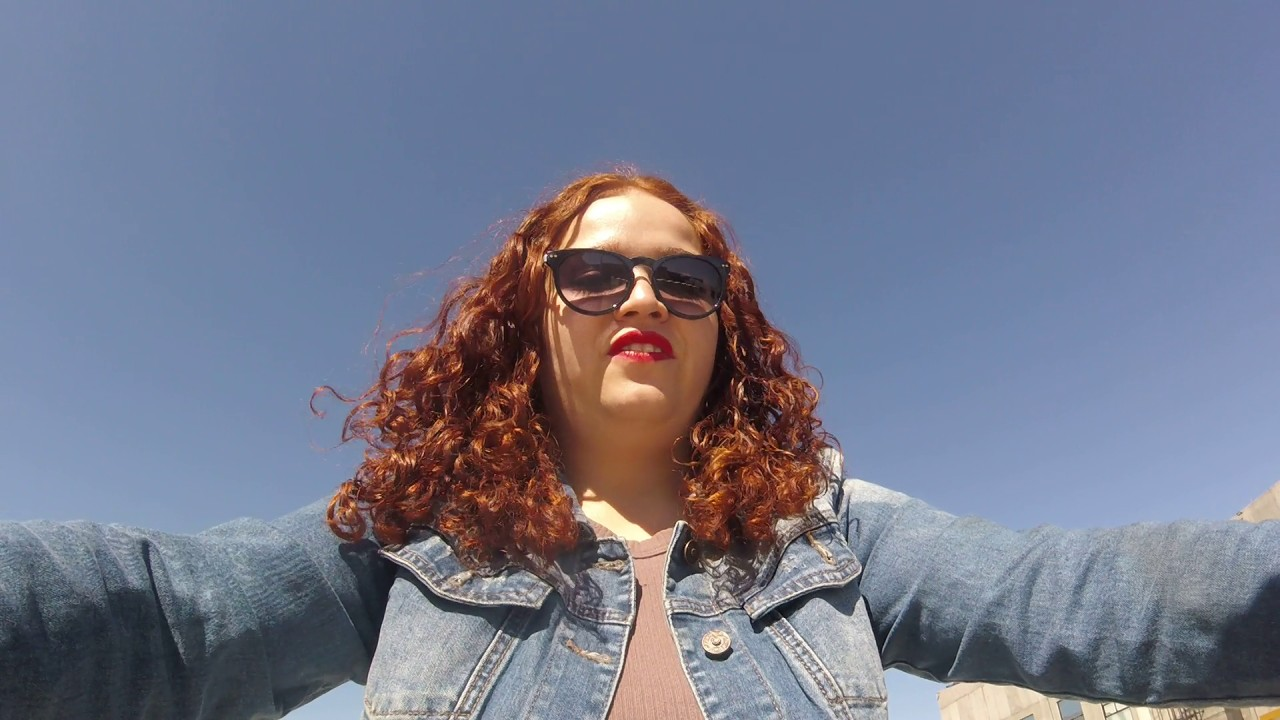Without Helmet: (495, 160, 764, 477)
